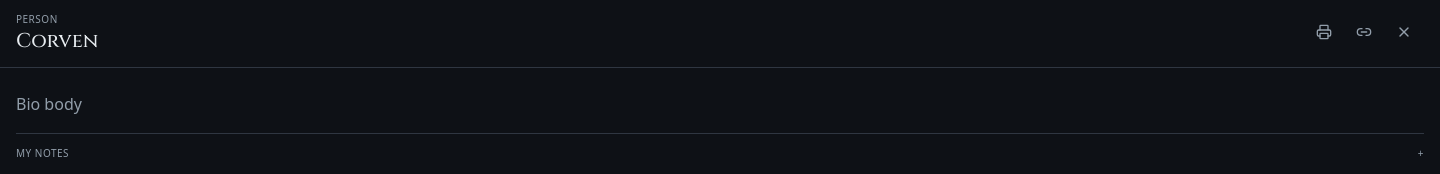
Test: EntityPanel — CopyLinkButton copied state (N77) › shows the Check icon (text-green-500) after a successful clipboard write
Step 1. Click the button titled "Copy share link" → (1364, 32), box left=1344, top=12, right=1384, bottom=52
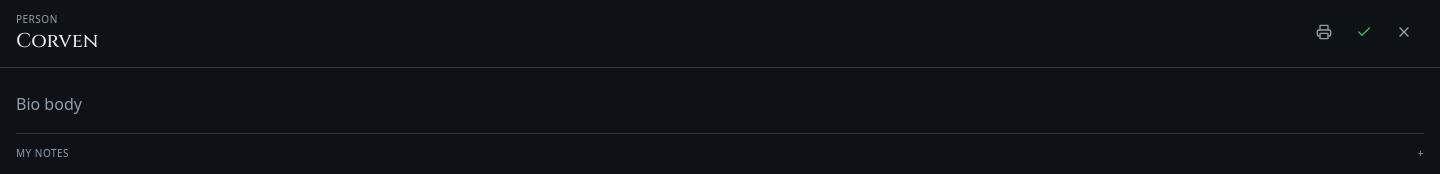
Now the 2nd icon is shown, box left=1356, top=24, right=1372, bottom=40
